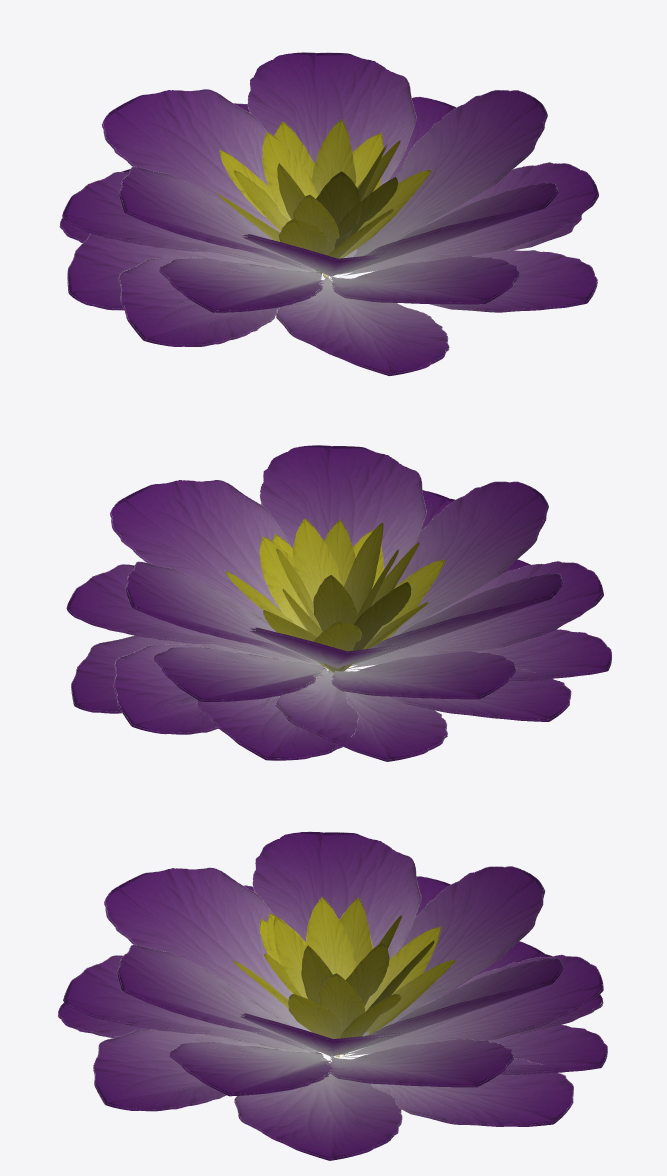
Rendered from flor-nenufar-daniel.FBX.
3 renders of one model, top to bottom at view 1: azimuth 30°, elevation 25°; view 2: azimuth 150°, elevation 25°; view 3: azimuth 270°, elevation 25°, orthographic.
Visible parts, largest first — view 1: flor nenúfar080; view 2: flor nenúfar080; view 3: flor nenúfar080.
Boxes of the visible parts, x1=… form: flor nenúfar080: x1=59, y1=52, x2=598, y2=376; flor nenúfar080: x1=66, y1=445, x2=611, y2=761; flor nenúfar080: x1=58, y1=831, x2=607, y2=1160.
Bounding box in the file's own units: 2.17 × 0.6382 × 2.24.
